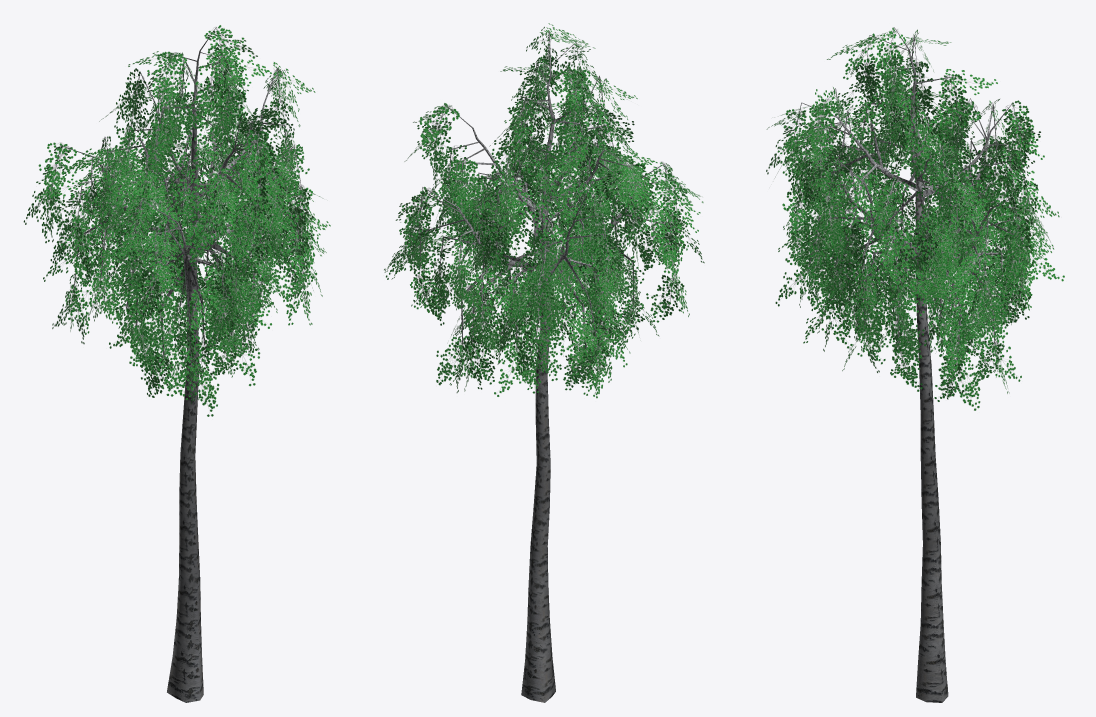
Rendered from arbre_bouleau2.glb.
3 views of the same model, side by side, from view 1: azimuth 30°, elevation 25°; view 2: azimuth 150°, elevation 25°; view 3: azimuth 270°, elevation 25° (orthographic). The views are drawn at different scales.
Visible parts, largest first — view 1: arbre_bouleau2; view 2: arbre_bouleau2; view 3: arbre_bouleau2.
Part boxes in pixels (box(x1,y1,x2,y2)): arbre_bouleau2: box(23, 25, 330, 702); arbre_bouleau2: box(384, 23, 704, 702); arbre_bouleau2: box(766, 27, 1064, 702).
Size of the model in its own units: 7.17 by 17.08 by 7.52.
Materials: 2 (2 with a texture image).
